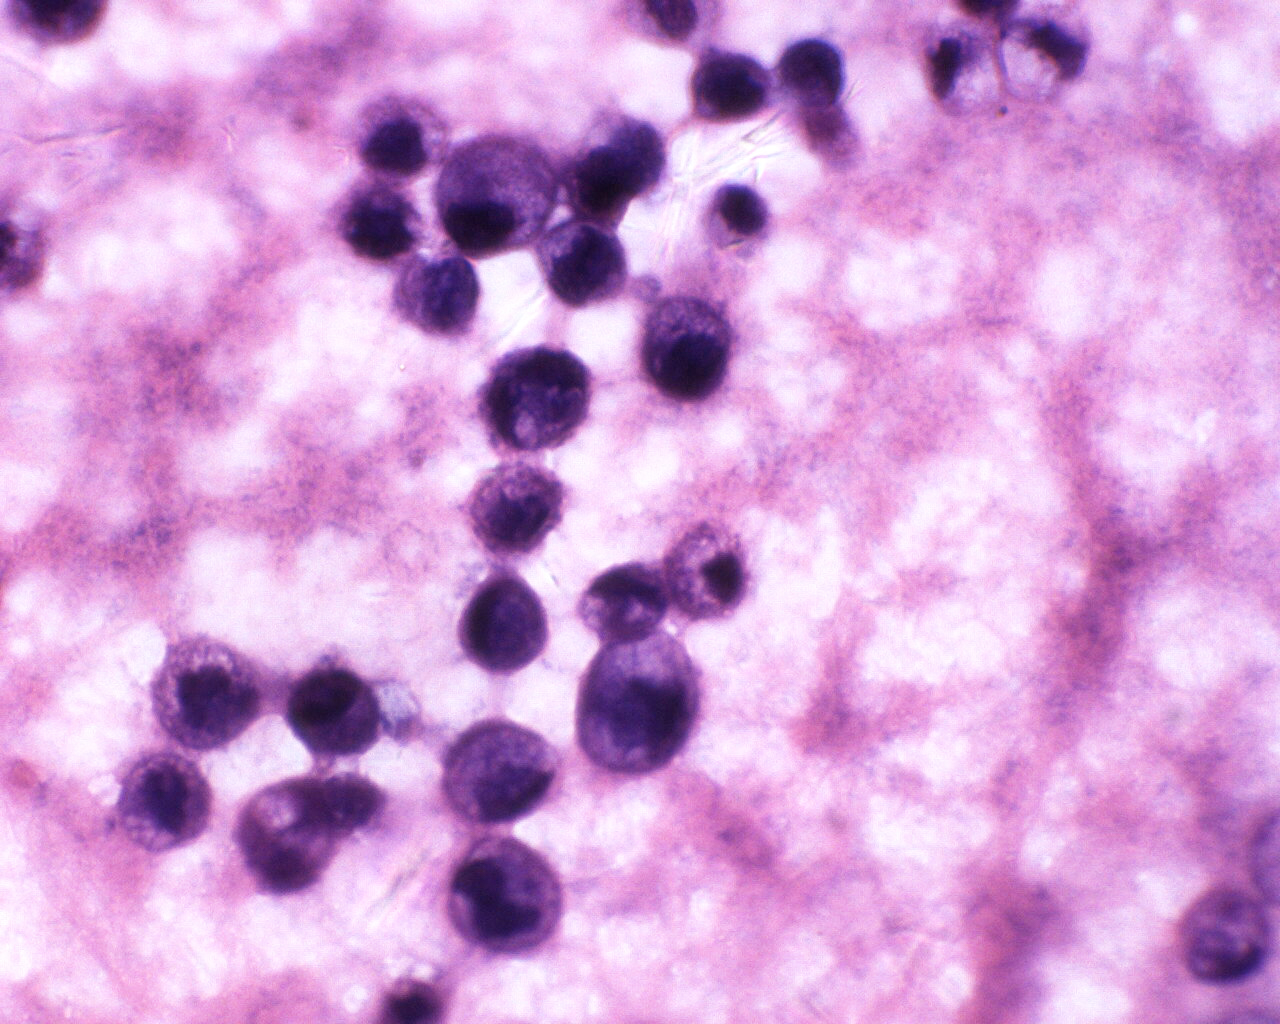ab: (573, 627, 709, 784), (138, 625, 279, 757), (440, 709, 564, 829), (448, 838, 564, 963), (464, 456, 575, 562), (639, 294, 737, 410), (116, 752, 218, 862), (453, 572, 551, 673), (284, 664, 387, 758), (330, 178, 430, 265), (534, 217, 631, 306), (686, 48, 777, 131)
histo: (433, 125, 560, 261)
